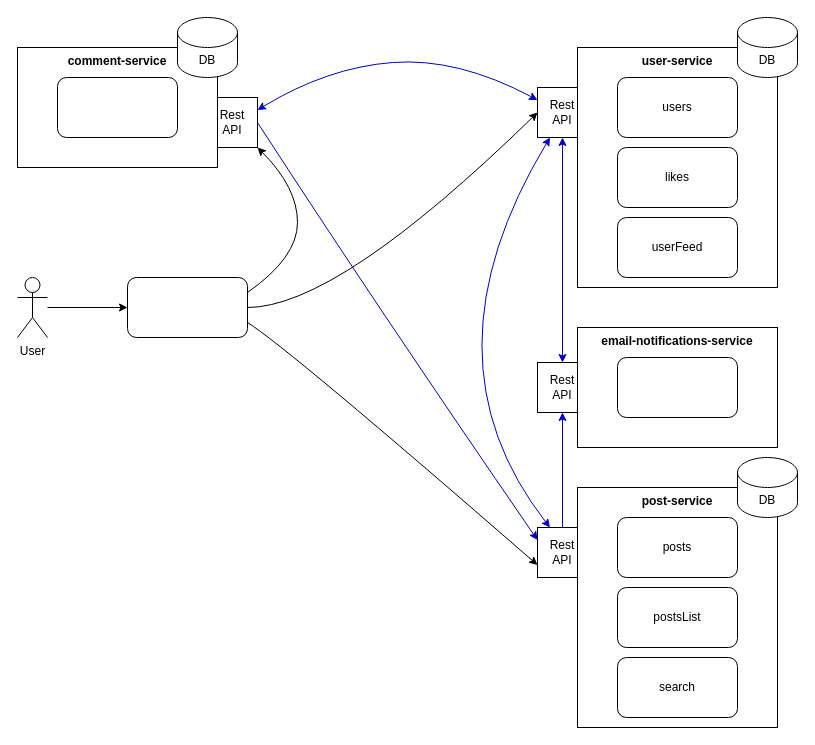
Some shapes in this 815 by 745 pixel diagram are drawn without their labels. The centre of each missing label's shape, as x and y in pixels:
"Backend For Frontend" belongs at (x=187, y=307).
"comments" belongs at (x=117, y=107).
"email notifications" belongs at (x=677, y=387).
